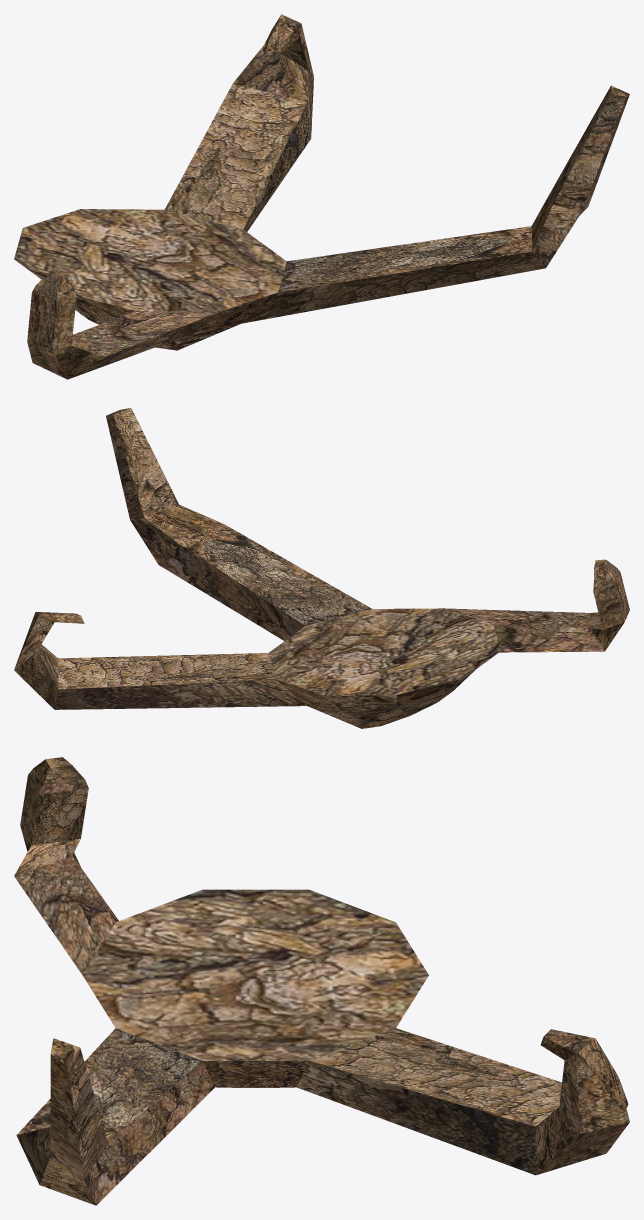
Rendered from hand1.glb.
3 renders of one model, top to bottom at view 1: azimuth 30°, elevation 25°; view 2: azimuth 150°, elevation 25°; view 3: azimuth 270°, elevation 25°, orthographic. The views are drawn at different scales.
Visible parts, largest first — view 1: Cylinder.025_collider; view 2: Cylinder.025_collider; view 3: Cylinder.025_collider.
Boxes of the visible parts, bbox=[...] form: Cylinder.025_collider: bbox=[14, 14, 629, 379]; Cylinder.025_collider: bbox=[14, 408, 629, 728]; Cylinder.025_collider: bbox=[14, 757, 629, 1205].
Bounding box in the file's own units: 7.41 × 2.52 × 5.28.
1 material, 1 textured.
